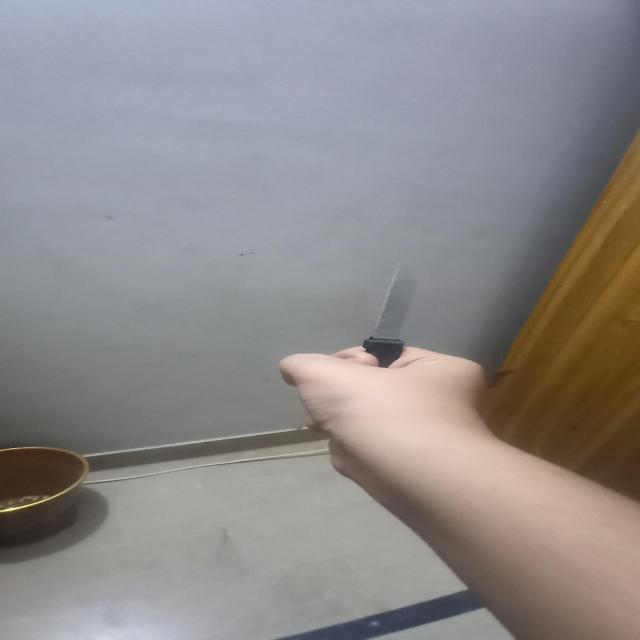weapon: (362, 264, 424, 367)
